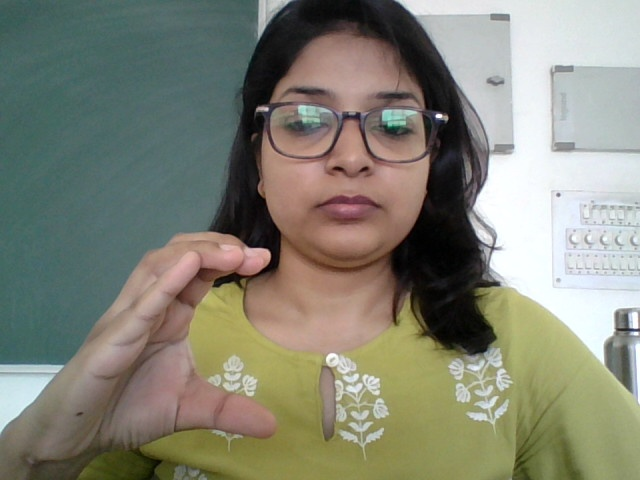C: (30, 224, 297, 467)
